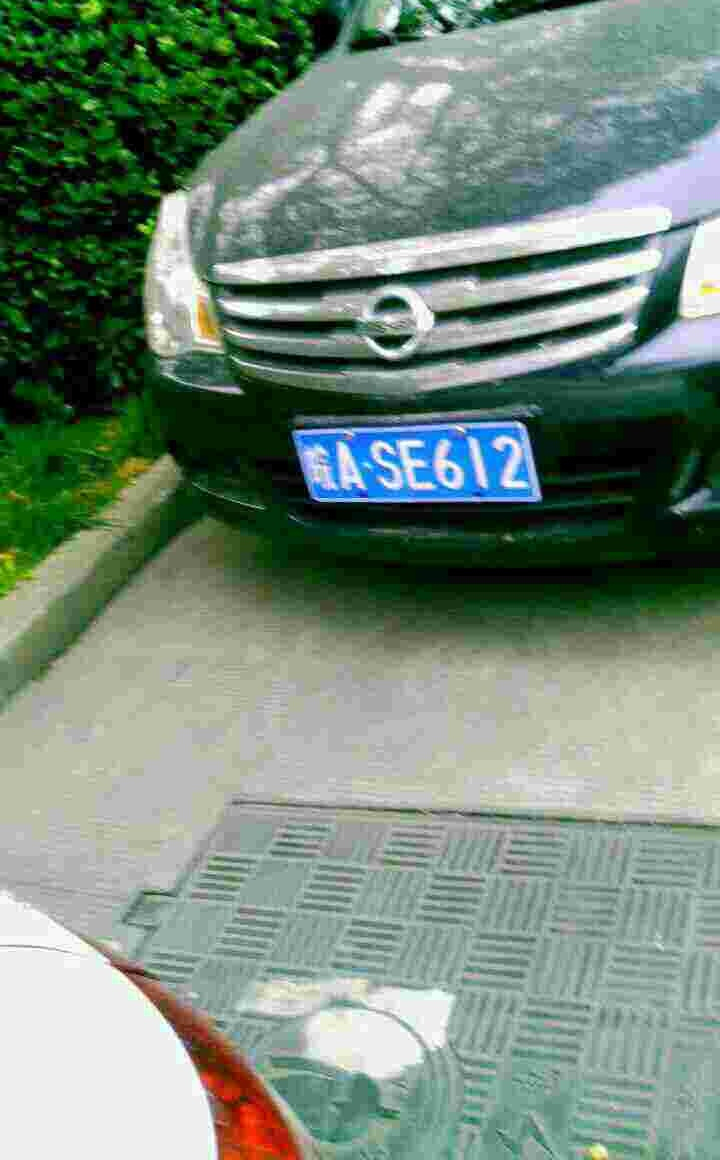license_plate: (310, 419, 532, 503)
